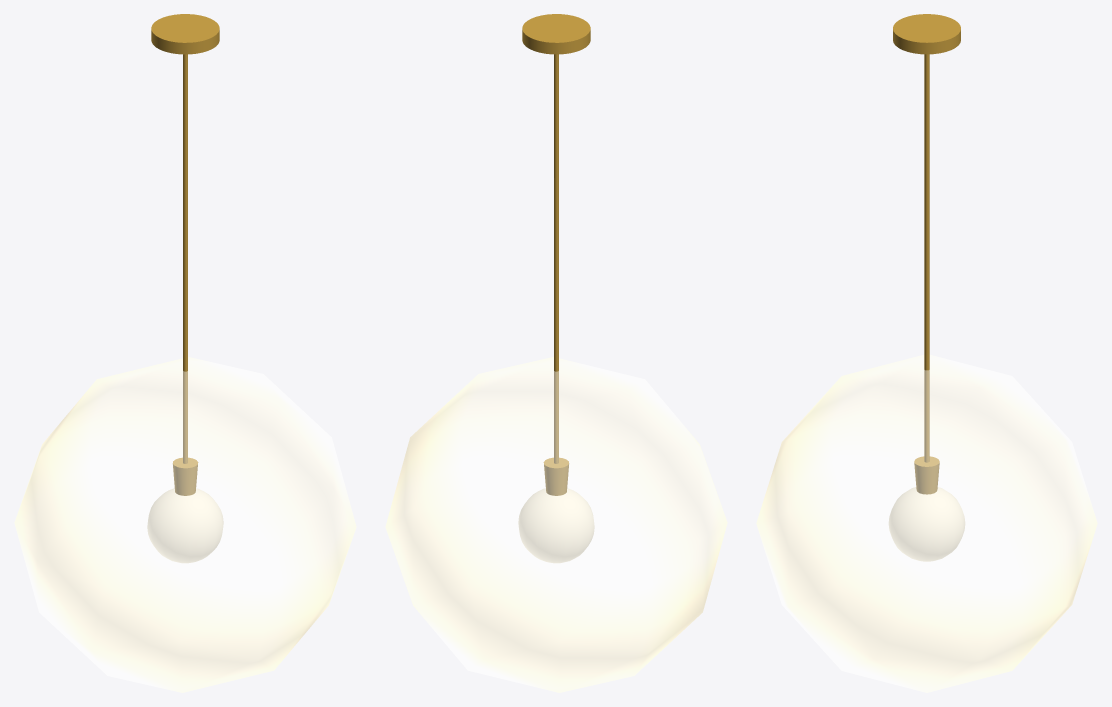
Rendered from pendant-light.glb.
3 renders of one model, left to right at view 1: azimuth 30°, elevation 25°; view 2: azimuth 150°, elevation 25°; view 3: azimuth 270°, elevation 25°, orthographic.
Bounding box in the file's own units: 0.4 × 0.84 × 0.4.
